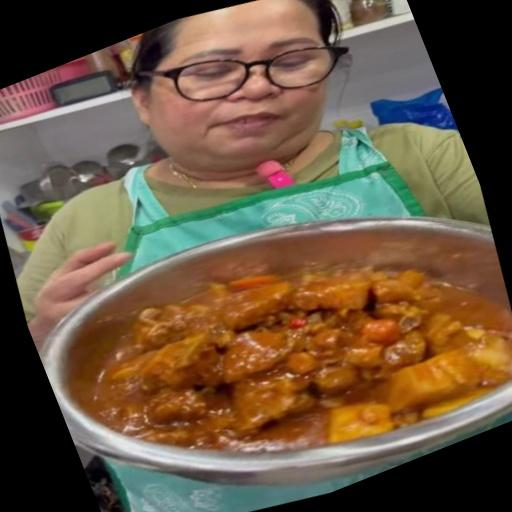pork caldereta: (95, 266, 511, 454)
